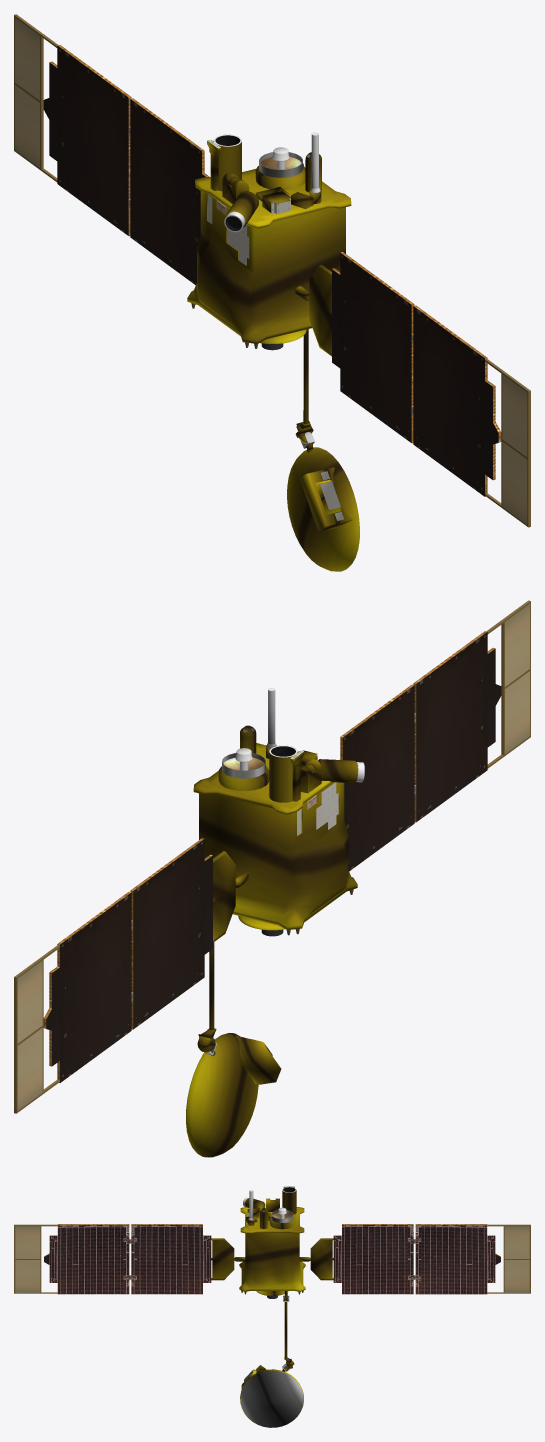
File: mars-global-surveyor.glb
The picture shows the model from 3 angles, top to bottom: view 1: azimuth 30°, elevation 25°; view 2: azimuth 150°, elevation 25°; view 3: azimuth 270°, elevation 25°; orthographic projection. The views are drawn at different scales.
Parts seen in each view (by area): view 1: walk; view 2: walk; view 3: walk.
Boxes of the visible parts, x1,y1,x2,y2 form: walk: (14,14,530,571); walk: (14,600,530,1157); walk: (14,1186,530,1427).
Bounding box in the file's own units: 1.75 × 5.15 × 10.52.
7 materials, 6 textured.
